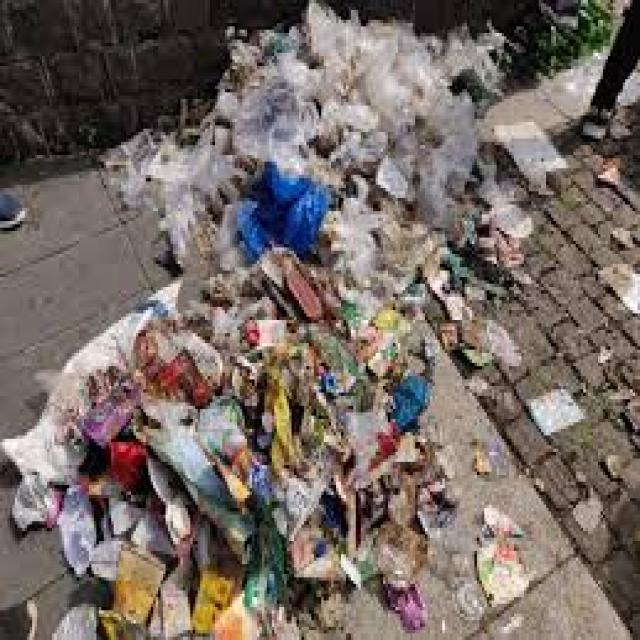heap: (226, 97, 426, 552)
